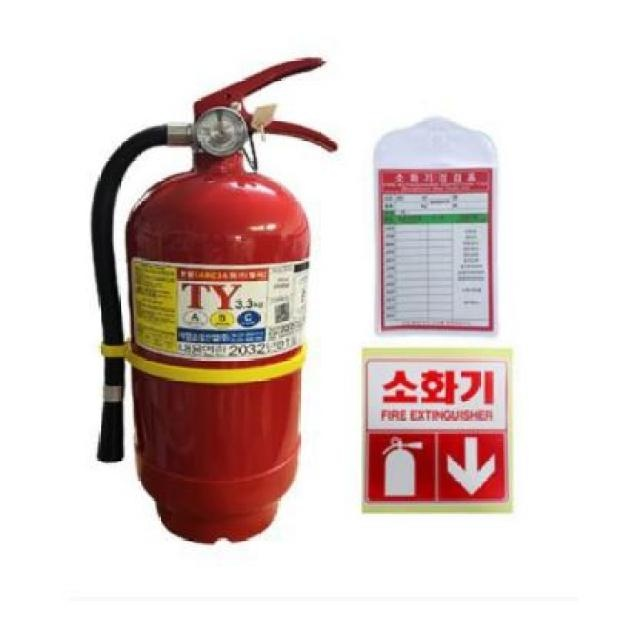fire extinguisher: (89, 57, 340, 545)
